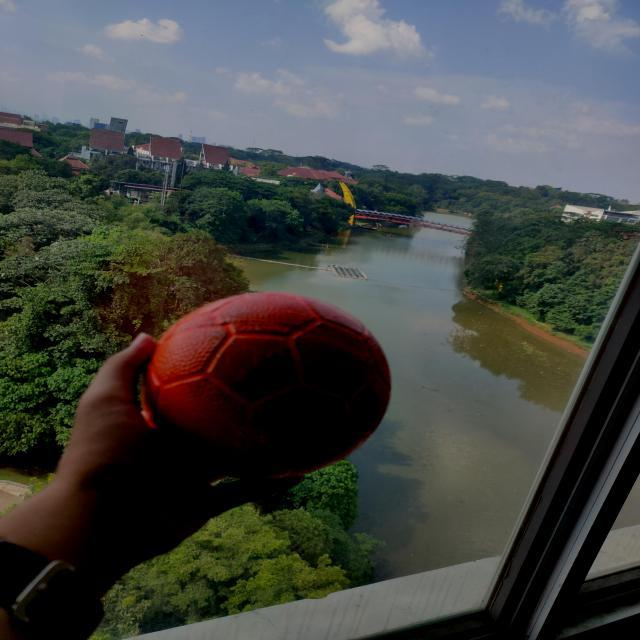bola: (138, 286, 396, 486)
